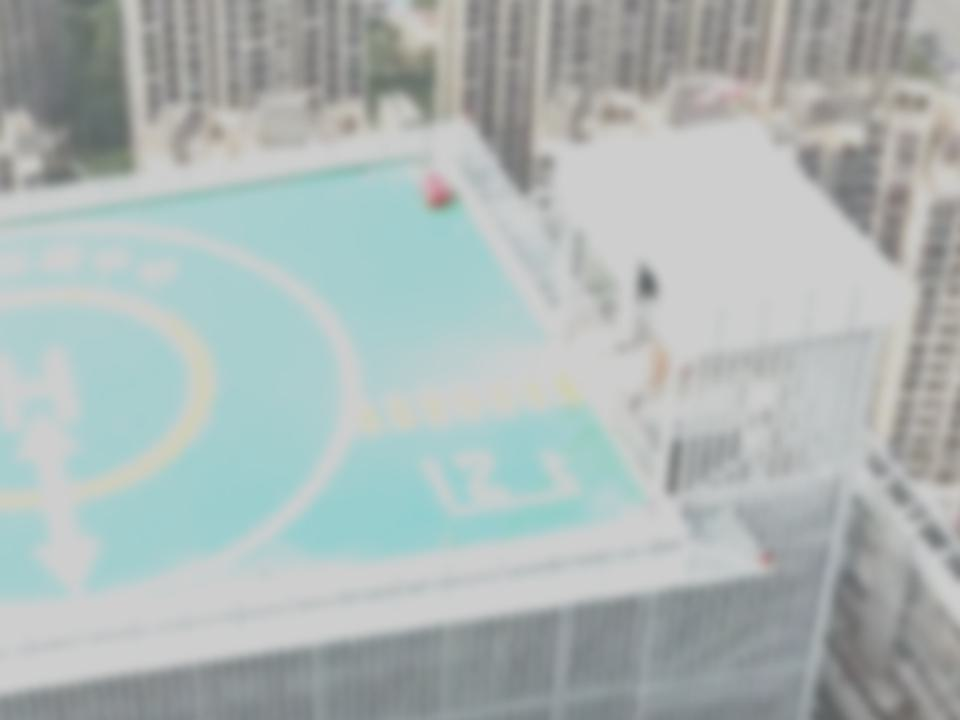Apron: (1, 264, 228, 520)
